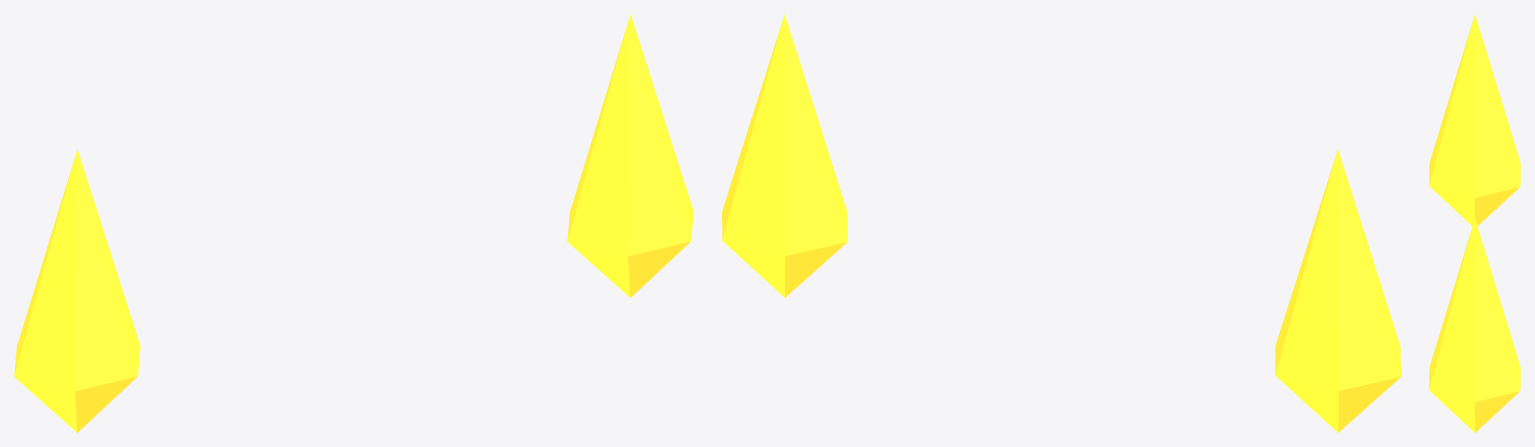
File: CandleLight_candelbrum01.fbx
3 views of the same model, side by side, from view 1: azimuth 30°, elevation 25°; view 2: azimuth 150°, elevation 25°; view 3: azimuth 270°, elevation 25° (orthographic). The views are drawn at different scales.
Parts seen in each view (by area): view 1: CandleLight_candelbrum01; view 2: CandleLight_candelbrum01; view 3: CandleLight_candelbrum01.
Boxes of the visible parts, box(x1,y1,x2,y2) form: CandleLight_candelbrum01: box(14, 14, 693, 432); CandleLight_candelbrum01: box(722, 14, 1400, 432); CandleLight_candelbrum01: box(1429, 14, 1520, 432).
Size of the model in its own units: 162 by 64.58 by 24.96.
